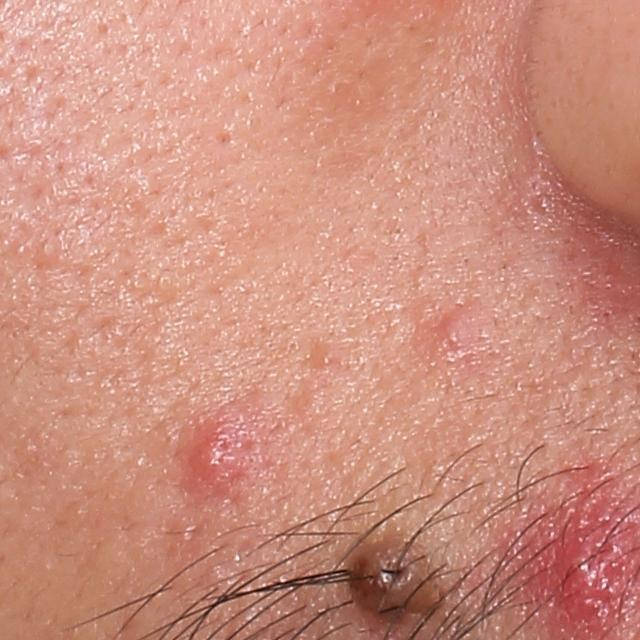comedo: (36, 233, 64, 266)
nevus: (342, 534, 444, 629)
nodule: (533, 480, 638, 622)
papule: (180, 396, 273, 501), (427, 295, 492, 366)
